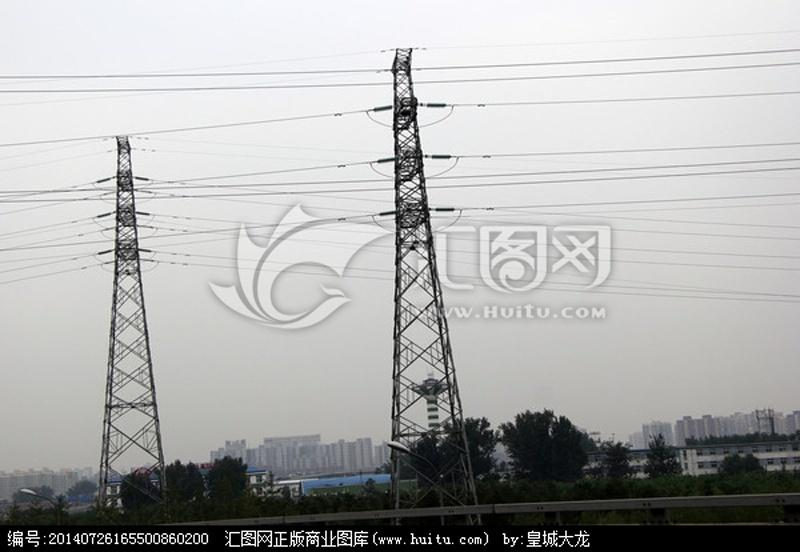power_tower: (342, 40, 504, 515), (79, 129, 177, 516)
